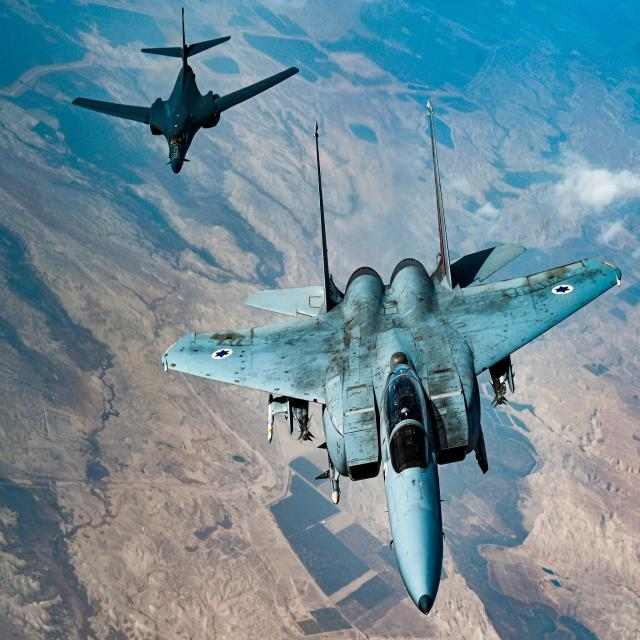F15: (126, 108, 640, 630), (60, 0, 322, 166)
